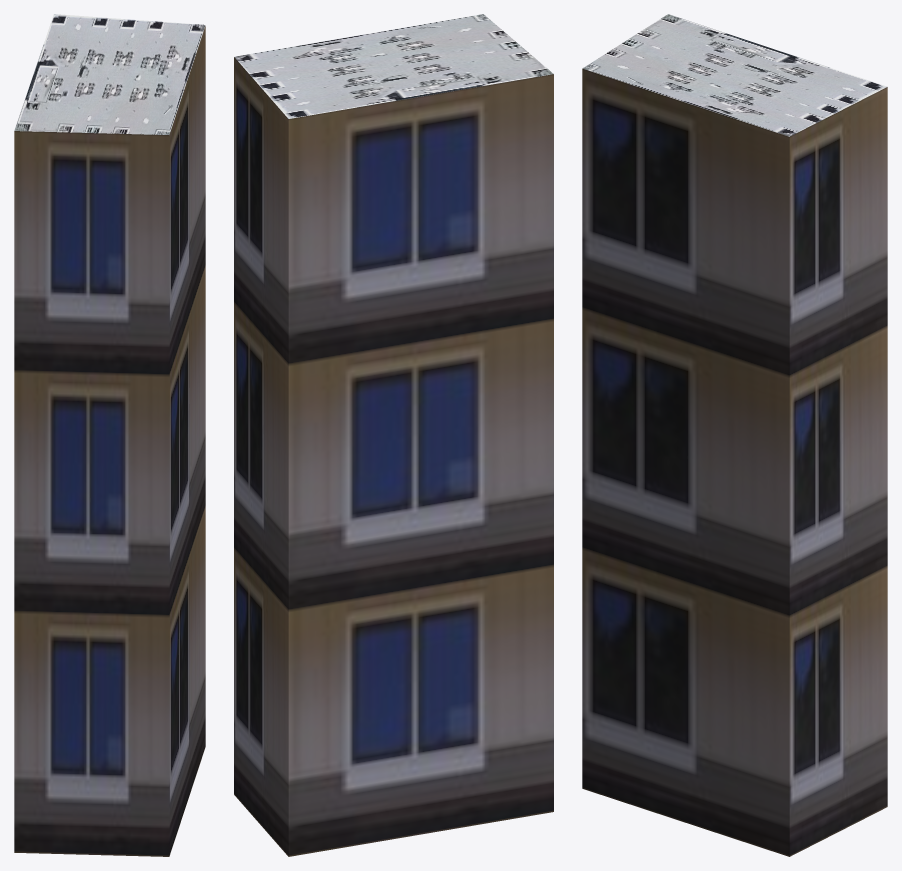
Rendered from ResTex__4618.fbx.
The picture shows the model from 3 angles, left to right: view 1: azimuth 30°, elevation 25°; view 2: azimuth 150°, elevation 25°; view 3: azimuth 270°, elevation 25°; orthographic projection. The views are drawn at different scales.
Parts seen in each view (by area): view 1: CityEngineMaterial_5_m, CityEngineMaterial_4_m; view 2: CityEngineMaterial_5_m, CityEngineMaterial_4_m; view 3: CityEngineMaterial_5_m, CityEngineMaterial_4_m.
Boxes of the visible parts, x1,y1,x2,y2 form: CityEngineMaterial_5_m: [14, 26, 205, 856]; CityEngineMaterial_4_m: [14, 14, 205, 134]; CityEngineMaterial_5_m: [234, 57, 553, 856]; CityEngineMaterial_4_m: [234, 14, 553, 118]; CityEngineMaterial_5_m: [582, 68, 887, 856]; CityEngineMaterial_4_m: [582, 14, 887, 136].
Size of the model in its own units: 3.29 by 9 by 3.46.
Materials: 2 (2 with a texture image).
